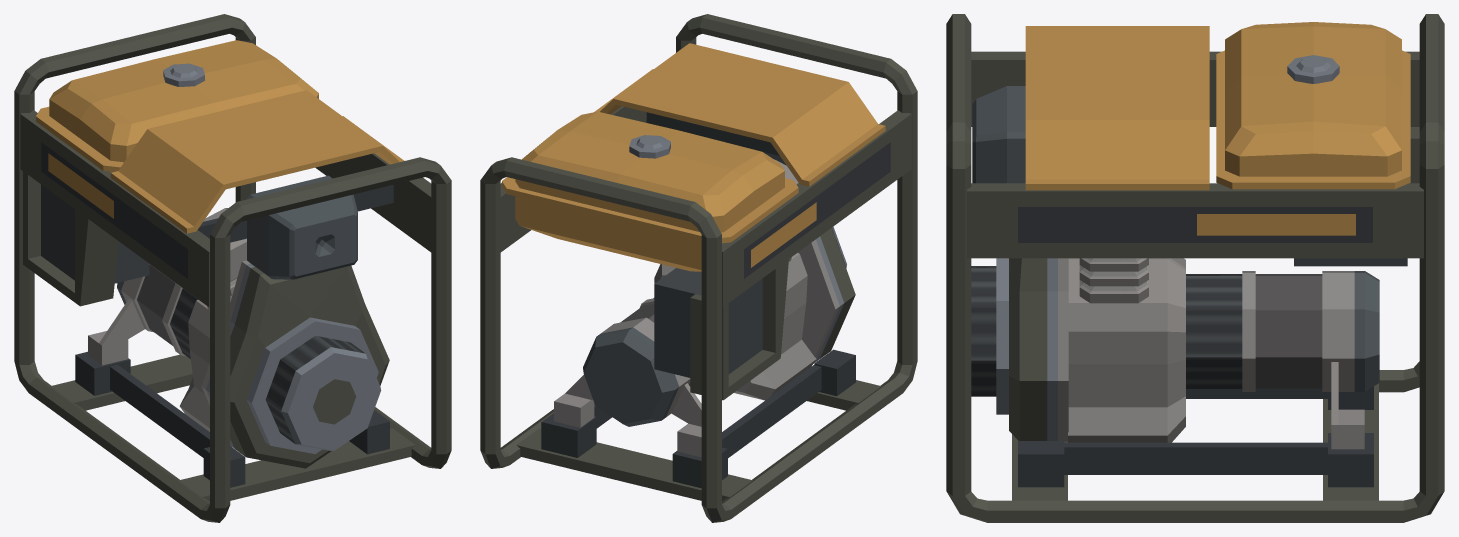
The model's file is SM_Prop_Generator_Small_01.fbx.
3 renders of one model, left to right at view 1: azimuth 30°, elevation 25°; view 2: azimuth 150°, elevation 25°; view 3: azimuth 270°, elevation 25°, orthographic. The views are drawn at different scales.
Parts seen in each view (by area): view 1: SM_Prop_Generator_Small_01; view 2: SM_Prop_Generator_Small_01; view 3: SM_Prop_Generator_Small_01.
Boxes of the visible parts, x1,y1,x2,y2 form: SM_Prop_Generator_Small_01: (14, 14, 451, 522); SM_Prop_Generator_Small_01: (480, 14, 917, 522); SM_Prop_Generator_Small_01: (946, 14, 1444, 522).
Bounding box in the file's own units: 42.52 × 56.13 × 64.04.
